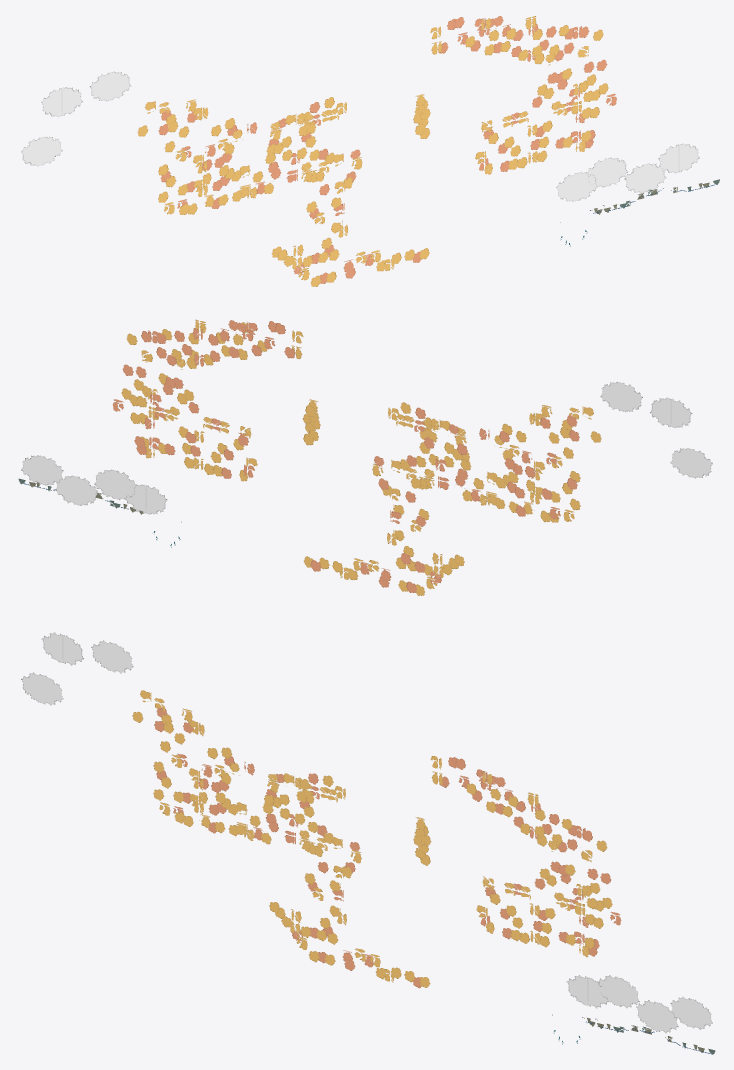
File: tainai01_bg.glb
3 renders of one model, top to bottom at view 1: azimuth 30°, elevation 25°; view 2: azimuth 150°, elevation 25°; view 3: azimuth 330°, elevation 25°, orthographic.
Parts seen in each view (by area): view 1: tainai01_bg; view 2: tainai01_bg; view 3: tainai01_bg.
Boxes of the visible parts, x1,y1,x2,y2 form: tainai01_bg: (21, 16, 719, 286); tainai01_bg: (18, 319, 712, 595); tainai01_bg: (21, 632, 715, 1054).
Size of the model in its own units: 5939 by 2274 by 135.
Materials: 11 (11 with a texture image).
